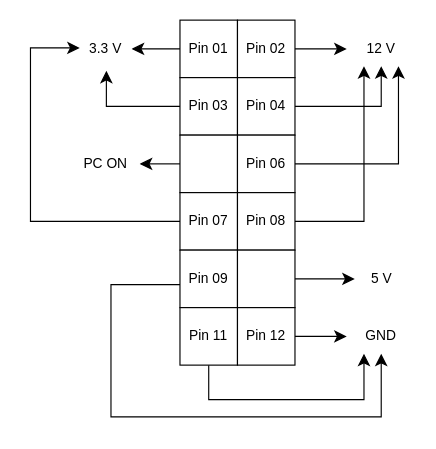
Image size: 436x449. Some labels were removed from this diagram. Here are the shapes that lost their labels. From the top down, the centre of each, then its label:
the point at 208,163: Pin 05
the point at 265,278: Pin 10
